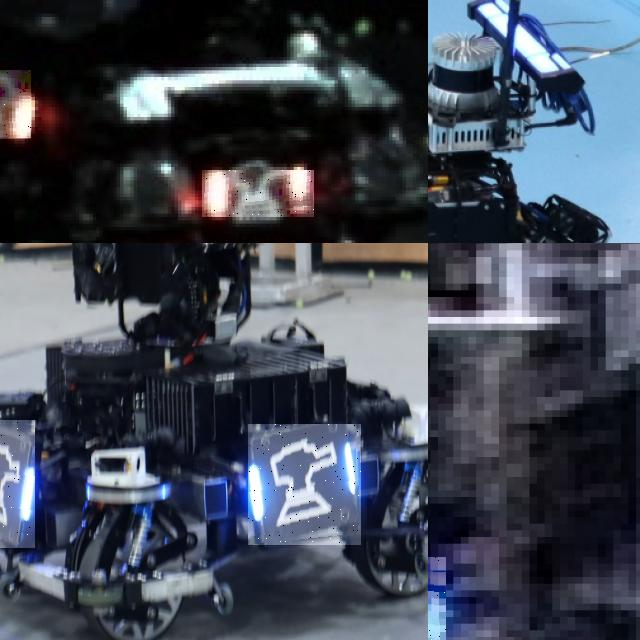Bs: (248, 424, 361, 545), (0, 419, 35, 548)
Rs: (202, 170, 314, 217), (0, 70, 31, 140)
